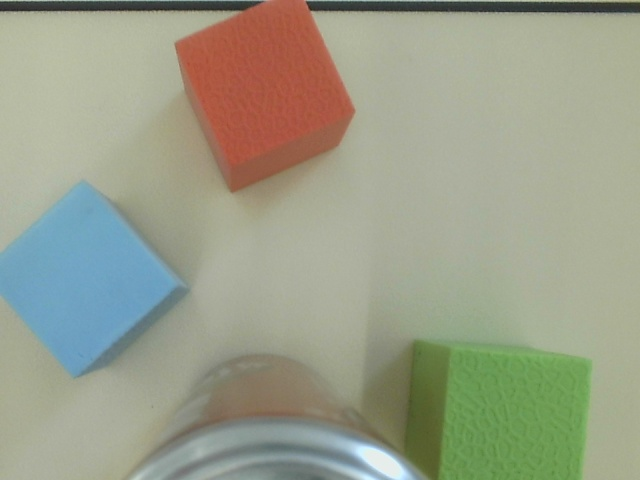bluecube: (1, 174, 196, 387)
cola: (117, 349, 442, 480)
greencube: (403, 329, 597, 480)
redcube: (170, 1, 369, 197)
